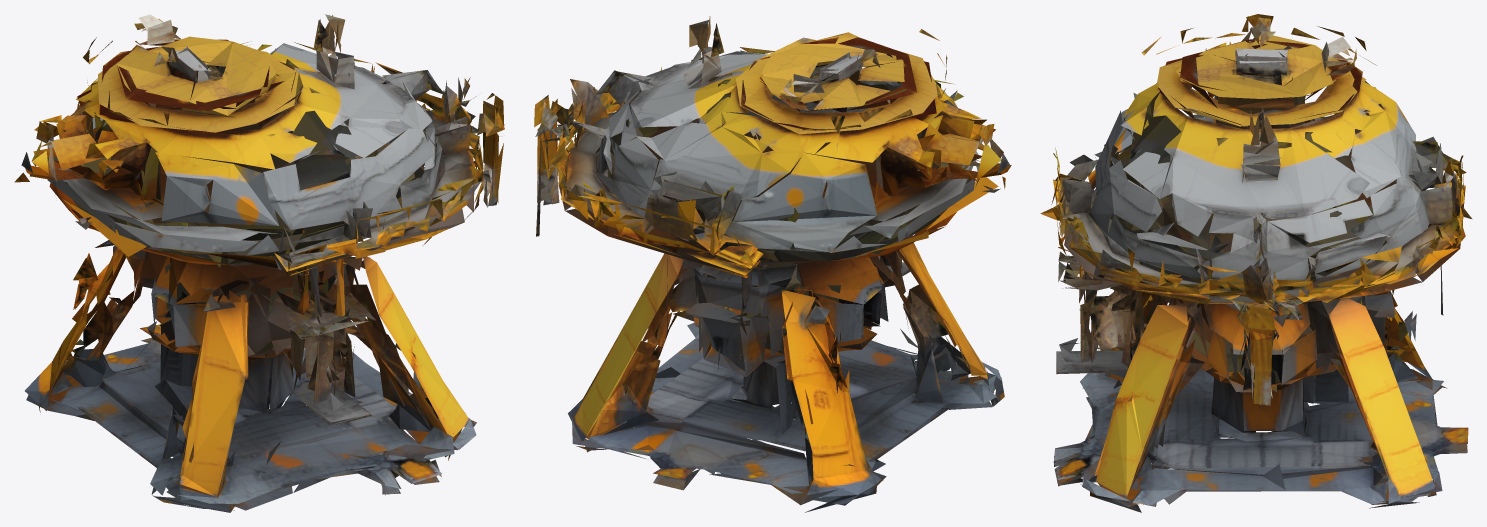
File: harpoon_yard_t1.fbx
3 views of the same model, side by side, from view 1: azimuth 30°, elevation 25°; view 2: azimuth 150°, elevation 25°; view 3: azimuth 270°, elevation 25° (orthographic). The views are drawn at different scales.
Visible parts, largest first — view 1: harpoon_yard_t1; view 2: harpoon_yard_t1; view 3: harpoon_yard_t1.
Part boxes in pixels (left/top/right/bottom): harpoon_yard_t1: left=14, top=14, right=504, bottom=512; harpoon_yard_t1: left=534, top=16, right=1011, bottom=512; harpoon_yard_t1: left=1040, top=14, right=1472, bottom=512.
Bounding box in the file's own units: 2.55 × 2.03 × 2.07.
1 material, 1 textured.
